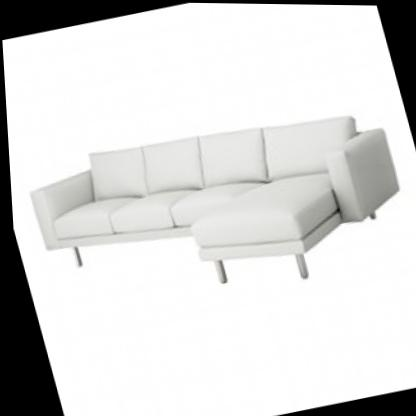Sofa: (4, 69, 416, 340)
